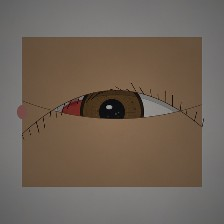hemorrhage_spot: (48, 72, 148, 152)
